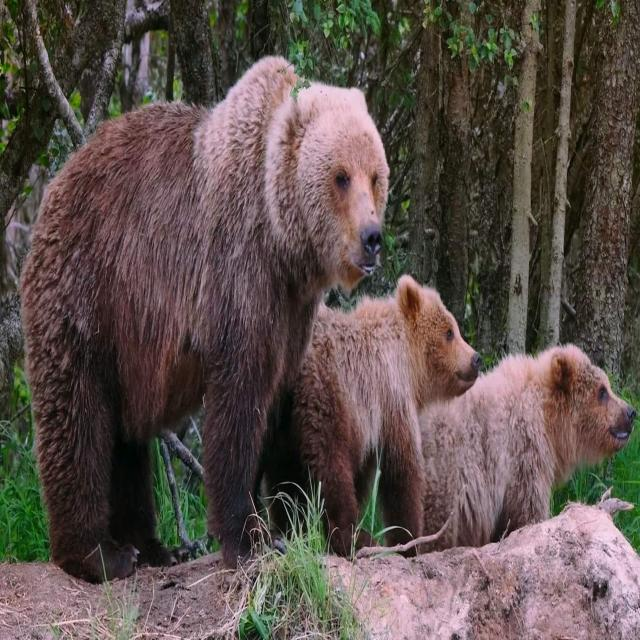Bear: (20, 56, 392, 585), (292, 276, 482, 558), (404, 345, 636, 555)
